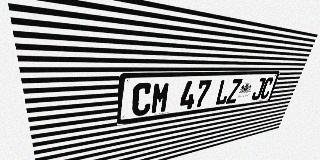4: (179, 80, 198, 110)
7: (193, 80, 212, 108)
C: (131, 82, 153, 117), (259, 77, 274, 99)
J: (251, 78, 266, 100)
L: (214, 79, 232, 105)
M: (150, 82, 171, 114)
Z: (226, 79, 243, 104)
